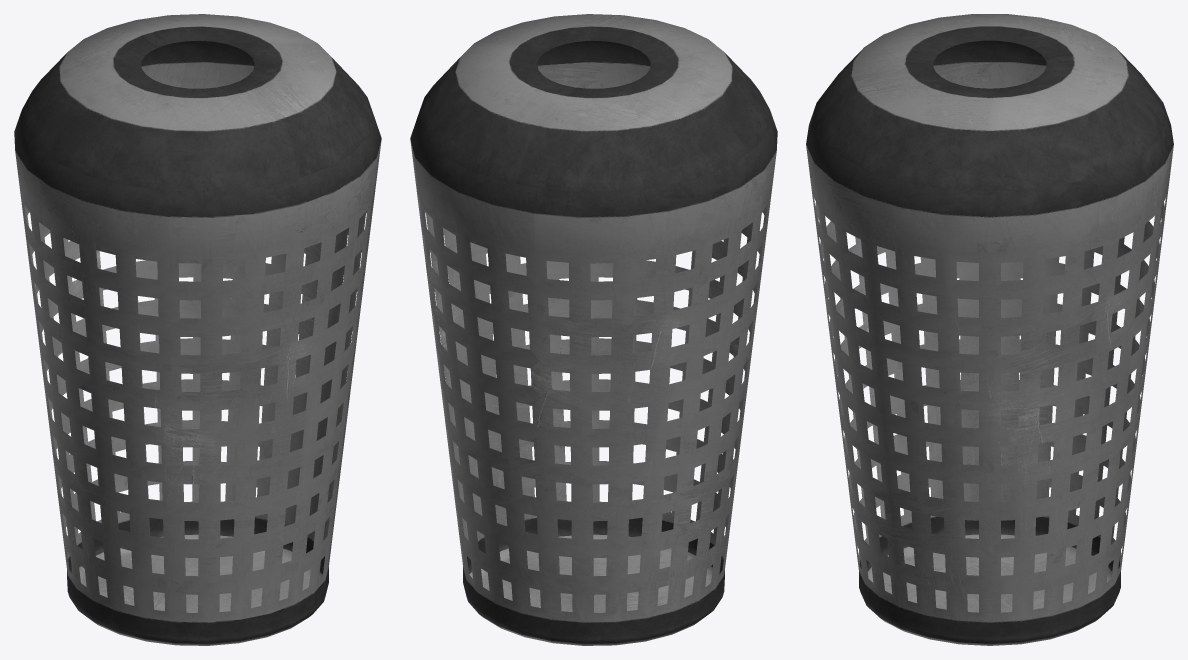
3 views of the same model, side by side, from view 1: azimuth 30°, elevation 25°; view 2: azimuth 150°, elevation 25°; view 3: azimuth 270°, elevation 25° (orthographic).
Visible parts, largest first — view 1: Trash_can; view 2: Trash_can; view 3: Trash_can.
Boxes of the visible parts, box(x1,y1,x2,y2) form: Trash_can: box(14, 14, 381, 645); Trash_can: box(410, 14, 777, 645); Trash_can: box(806, 14, 1173, 645).
Size of the model in its own units: 3.95 by 6.32 by 3.96.
Materials: 1 (1 with a texture image).
